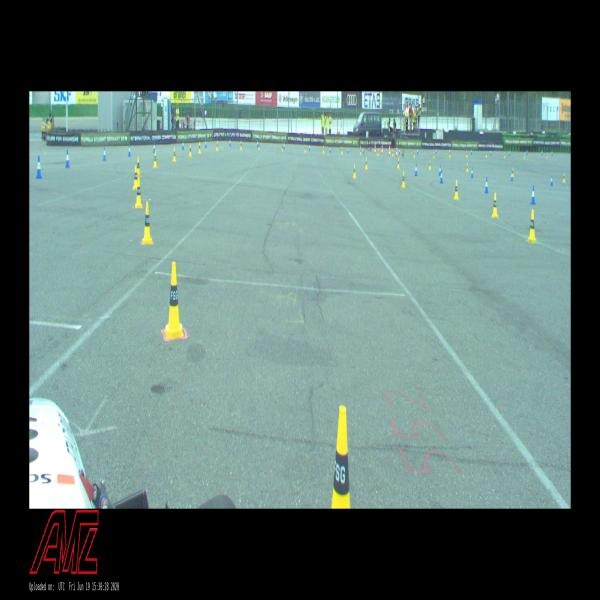blue_cone: (36, 156, 42, 180), (530, 186, 536, 204), (65, 150, 70, 168), (484, 177, 488, 193), (102, 146, 106, 161), (440, 169, 443, 184), (128, 144, 131, 157), (415, 163, 418, 176), (550, 175, 553, 186), (153, 142, 155, 154), (511, 169, 513, 181), (471, 167, 473, 178), (182, 140, 184, 150), (439, 165, 441, 175), (205, 139, 207, 149), (229, 138, 231, 146), (347, 146, 349, 154), (283, 142, 285, 150), (257, 140, 259, 148), (329, 146, 331, 153), (362, 147, 364, 154), (399, 148, 400, 155), (417, 148, 418, 154), (471, 148, 472, 154), (490, 150, 491, 156), (309, 144, 310, 150), (436, 148, 436, 154)
large_orange_cone: (388, 144, 390, 157), (381, 142, 383, 155), (396, 146, 398, 157), (374, 144, 376, 154)
yellow_cone: (332, 405, 351, 508), (164, 261, 183, 338), (142, 202, 153, 245), (527, 209, 537, 243), (135, 177, 142, 208), (492, 193, 498, 218), (133, 166, 138, 189), (136, 157, 141, 176), (153, 151, 158, 168), (454, 180, 458, 200), (402, 171, 406, 188), (173, 147, 176, 162), (353, 164, 356, 178), (189, 144, 192, 157), (365, 158, 368, 169), (198, 142, 201, 153), (397, 158, 400, 168), (563, 172, 565, 183), (512, 167, 514, 177), (216, 141, 218, 151), (428, 160, 430, 170), (240, 140, 242, 150), (466, 163, 468, 172), (341, 146, 343, 155), (258, 142, 260, 151), (466, 150, 468, 158), (304, 144, 306, 152), (392, 148, 394, 156), (433, 152, 435, 159), (377, 149, 379, 156), (546, 153, 548, 159), (449, 149, 450, 158), (414, 150, 415, 158), (486, 150, 487, 158), (282, 143, 283, 151), (323, 146, 324, 153), (360, 147, 361, 154)
